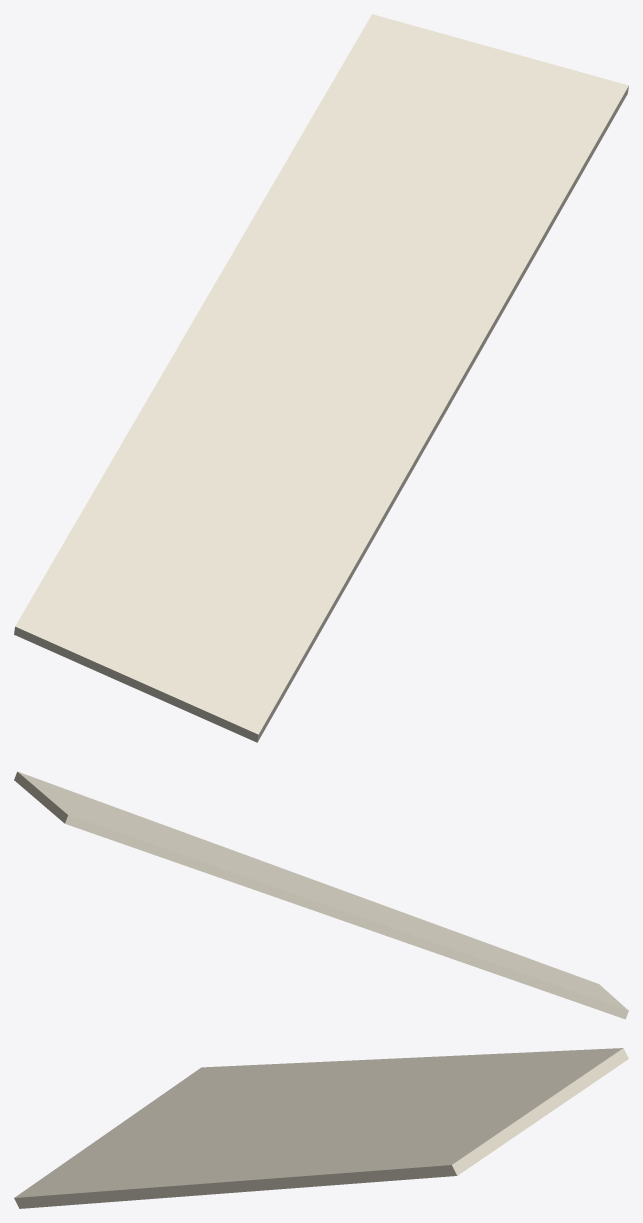
The picture shows the model from 3 angles, top to bottom: view 1: azimuth 30°, elevation 25°; view 2: azimuth 150°, elevation 25°; view 3: azimuth 270°, elevation 25°; orthographic projection. The views are drawn at different scales.
Visible parts, largest first — view 1: ZA_9f3f9651bd682787; view 2: ZA_9f3f9651bd682787; view 3: ZA_9f3f9651bd682787.
Boxes of the visible parts, x1=… form: ZA_9f3f9651bd682787: x1=14, y1=14, x2=628, y2=742; ZA_9f3f9651bd682787: x1=14, y1=771, x2=628, y2=1019; ZA_9f3f9651bd682787: x1=14, y1=1048, x2=628, y2=1208.
Size of the model in its own units: 0.0322 by 0.0158 by 0.0244.
